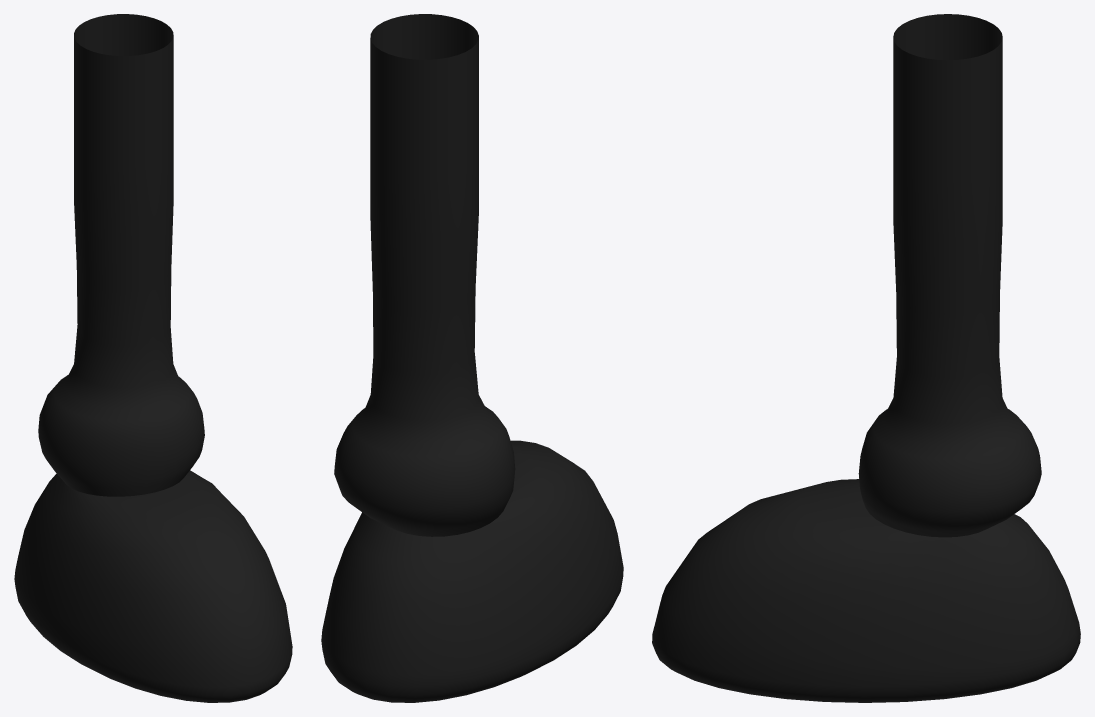
Rendered from leg.fbx.
3 renders of one model, left to right at view 1: azimuth 30°, elevation 25°; view 2: azimuth 150°, elevation 25°; view 3: azimuth 270°, elevation 25°, orthographic. The views are drawn at different scales.
Parts seen in each view (by area): view 1: Model.002; view 2: Model.002; view 3: Model.002.
Boxes of the visible parts, box(x1,y1,x2,y2) form: Model.002: box(14, 14, 292, 702); Model.002: box(321, 14, 623, 702); Model.002: box(652, 14, 1080, 702).
Bounding box in the file's own units: 56.36 × 155 × 96.57.
Materials: 1 (1 with a texture image).
